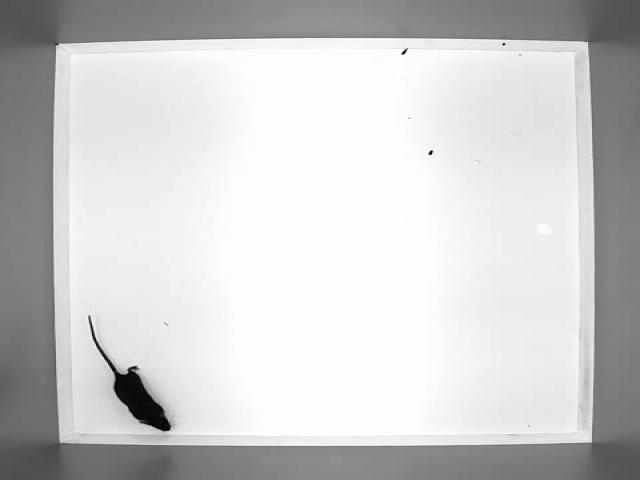Tikus: (86, 314, 170, 430)
